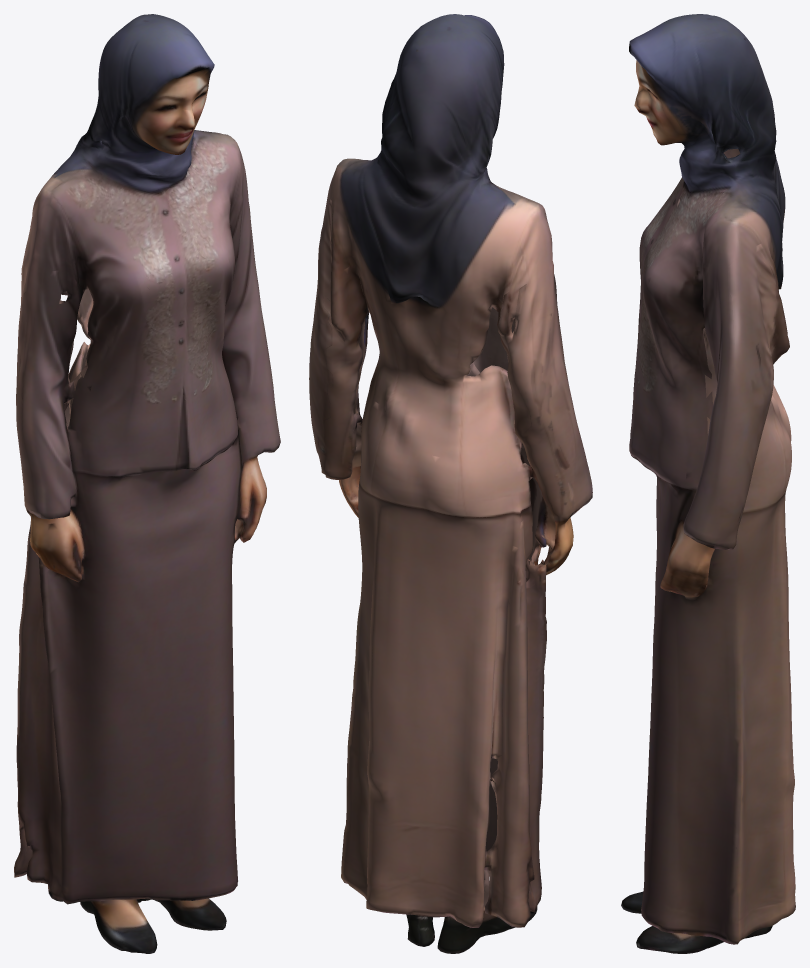
The model's file is female1.glb.
The picture shows the model from 3 angles, left to right: view 1: azimuth 30°, elevation 25°; view 2: azimuth 150°, elevation 25°; view 3: azimuth 270°, elevation 25°; orthographic projection.
Parts seen in each view (by area): view 1: Object_2; view 2: Object_2; view 3: Object_2.
Part boxes in pixels (bbox=[...]): Object_2: bbox=[14, 14, 280, 953]; Object_2: bbox=[309, 14, 592, 953]; Object_2: bbox=[621, 14, 795, 953].
Bounding box in the file's own units: 0.5951 × 2 × 0.3465.
Materials: 1 (1 with a texture image).
